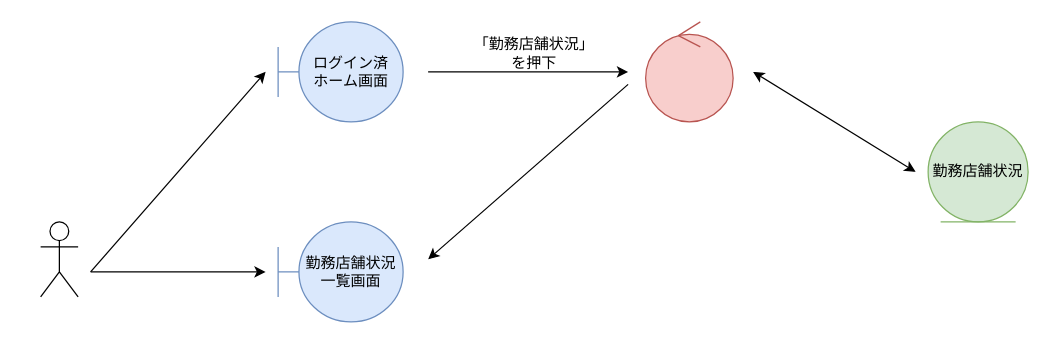
Image size: 1050x364. Some labels were removed from this diagram. Here are the shapes that lost their labels. From the top down, the centre of each, then its label:
At point (688, 71): "勤務店舗 状況を 取得する".
At point (58, 259): "正規社員 非正規社員".
